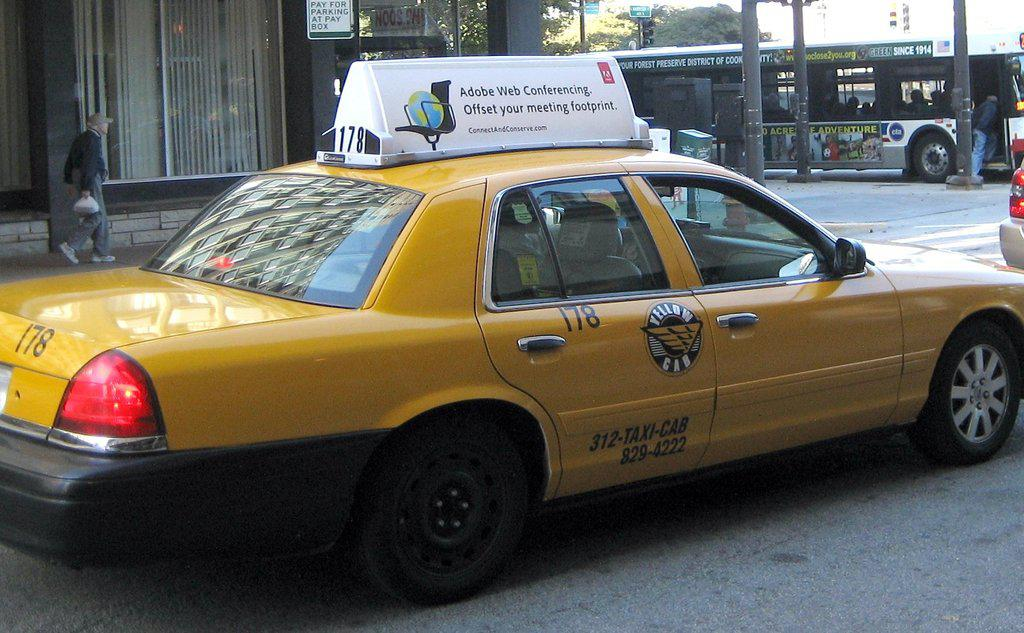taxi: (1, 55, 1024, 610)
